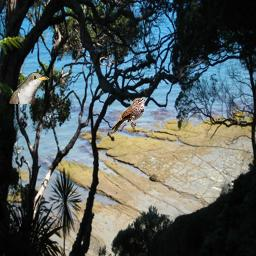Cuckoo: (9, 72, 49, 104)
Sparrow: (111, 97, 146, 132)
